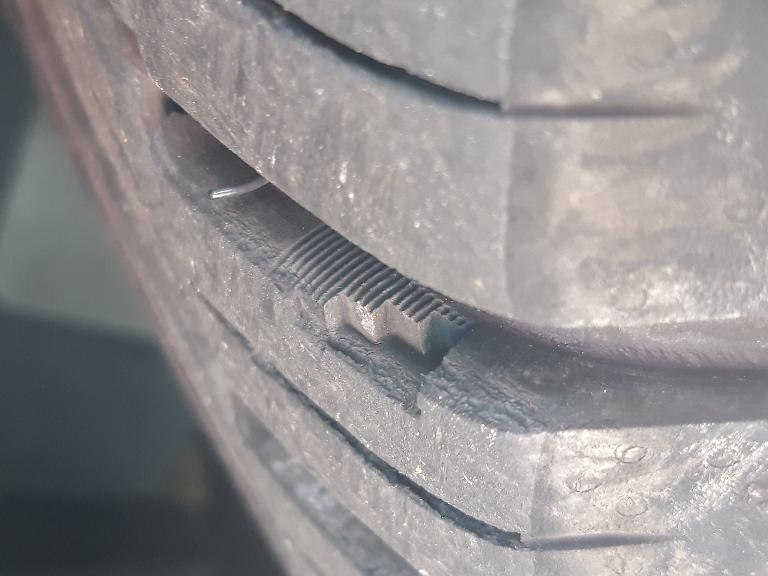temoin:80: (255, 217, 488, 431)
